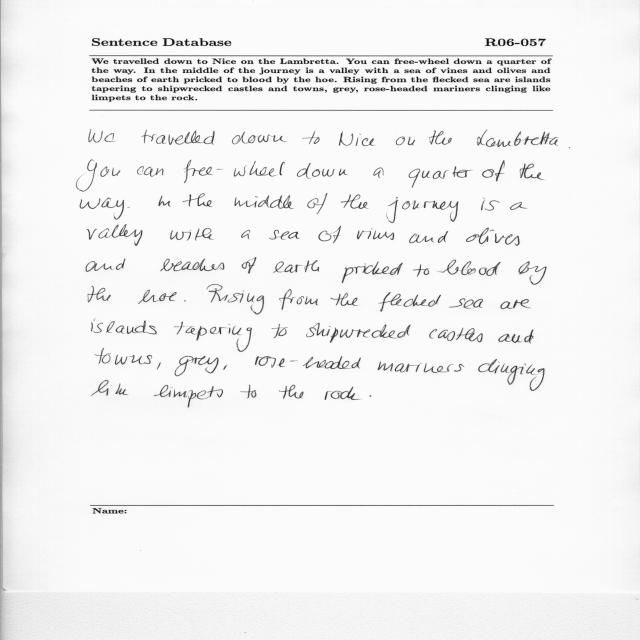word: (174, 322, 252, 352), (184, 160, 285, 183), (91, 319, 157, 352), (478, 359, 545, 391), (306, 323, 411, 343), (387, 197, 459, 223), (207, 285, 264, 315), (154, 385, 223, 407), (77, 160, 121, 192), (409, 166, 472, 188), (255, 356, 361, 369), (342, 262, 403, 283), (477, 130, 552, 147), (378, 292, 441, 312), (87, 224, 143, 246), (142, 130, 215, 145), (378, 361, 464, 373), (437, 260, 501, 276), (80, 198, 124, 220), (466, 228, 519, 246), (175, 356, 219, 376), (234, 195, 294, 209), (279, 289, 318, 310), (160, 259, 224, 271), (429, 328, 483, 342), (297, 163, 347, 178), (95, 352, 152, 365), (232, 132, 286, 145), (519, 261, 547, 285), (273, 260, 319, 273), (92, 380, 128, 396), (170, 228, 213, 241), (86, 258, 125, 272), (138, 290, 177, 304), (339, 131, 375, 146), (498, 329, 534, 344), (482, 160, 505, 182), (409, 231, 448, 243), (325, 387, 361, 400), (520, 163, 545, 180), (182, 193, 212, 207), (308, 194, 328, 215), (341, 194, 369, 209), (357, 229, 394, 240), (319, 226, 342, 243), (449, 298, 483, 309), (88, 286, 111, 302), (331, 293, 358, 306), (279, 385, 304, 399), (429, 130, 452, 145), (89, 130, 115, 143), (269, 230, 300, 240), (500, 299, 531, 309), (137, 166, 163, 177), (481, 198, 500, 211), (242, 257, 256, 274), (271, 324, 288, 338), (302, 131, 320, 144), (413, 264, 430, 277), (240, 385, 256, 398), (396, 137, 415, 146), (510, 202, 527, 210), (159, 196, 171, 207), (373, 168, 384, 178), (549, 137, 559, 146), (241, 230, 250, 239), (157, 362, 161, 370), (224, 365, 228, 370), (370, 395, 372, 397), (127, 207, 130, 208), (184, 301, 186, 302)
